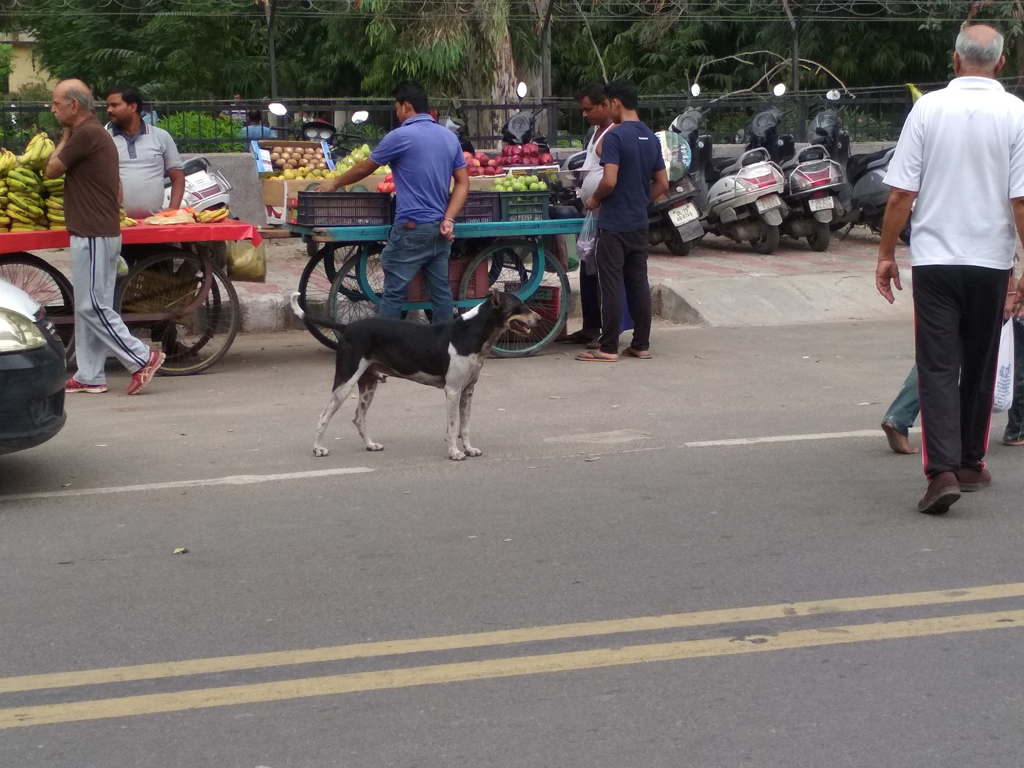dog: (288, 286, 543, 461)
